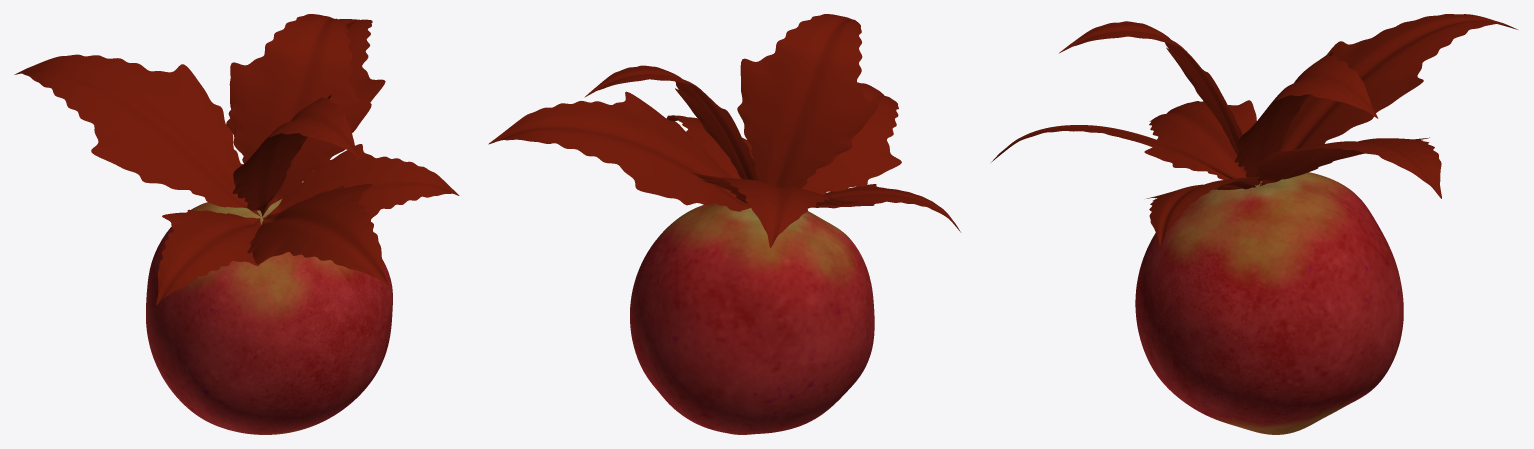
Rendered from RoteBeere.fbx.
3 views of the same model, side by side, from view 1: azimuth 30°, elevation 25°; view 2: azimuth 150°, elevation 25°; view 3: azimuth 270°, elevation 25° (orthographic). The views are drawn at different scales.
Visible parts, largest first — view 1: RoteBeere; view 2: RoteBeere; view 3: RoteBeere.
Part boxes in pixels (x1,y1,x2,y2): RoteBeere: (14,14,459,434); RoteBeere: (488,14,960,434); RoteBeere: (991,14,1517,434).
Size of the model in its own units: 68.55 by 68.92 by 84.21.
